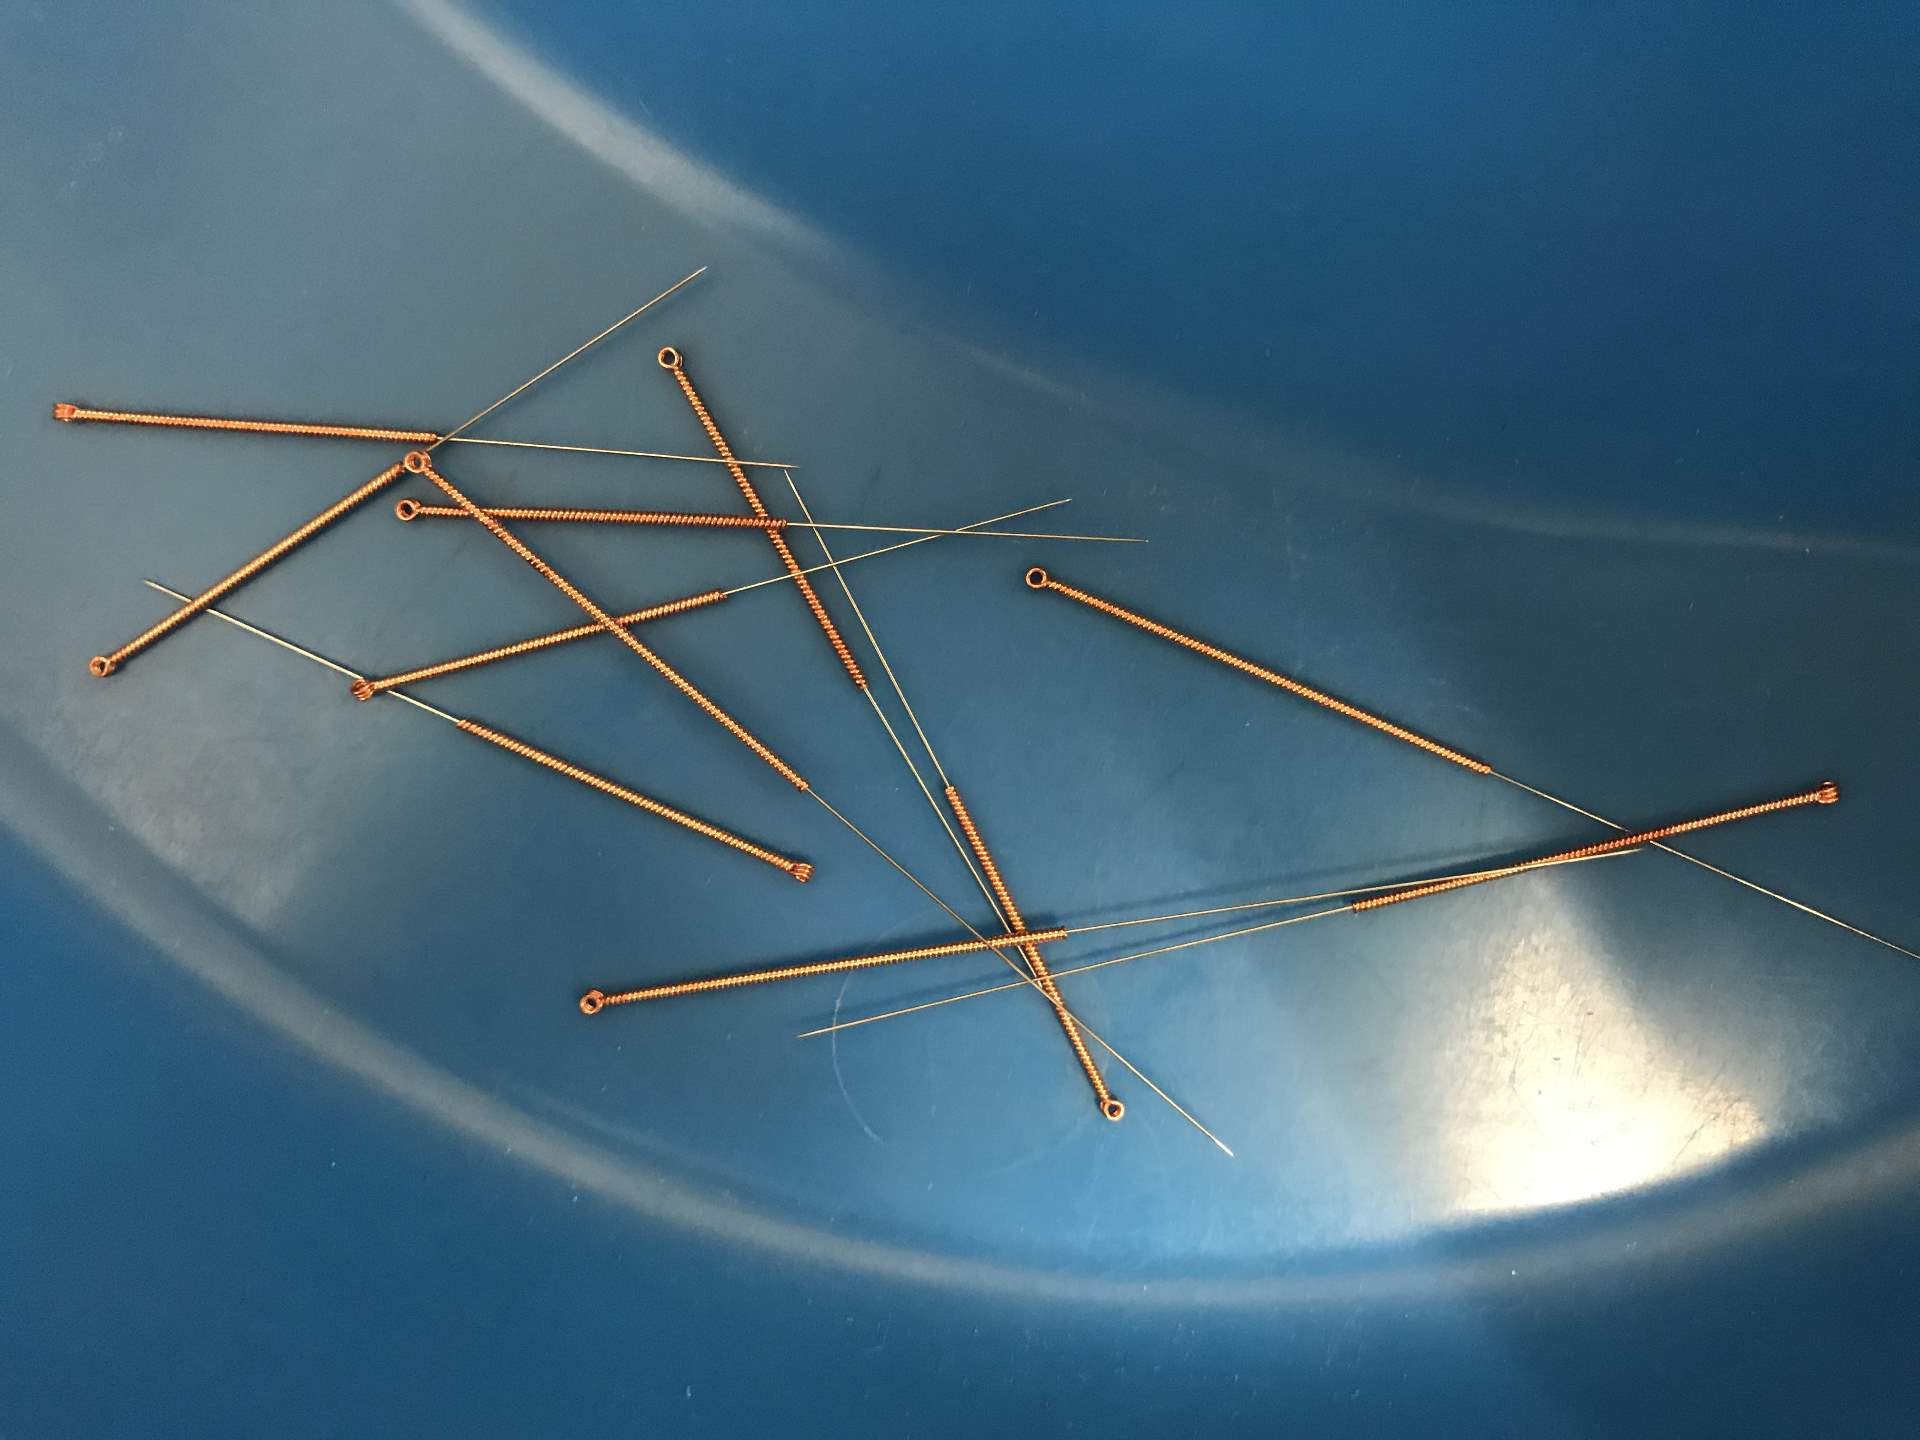needle: (41, 387, 91, 440), (649, 336, 698, 386), (1798, 768, 1847, 817), (570, 979, 617, 1026), (1014, 555, 1061, 599), (1090, 1083, 1132, 1131), (393, 440, 438, 484), (342, 669, 389, 709), (386, 490, 429, 532), (776, 850, 821, 889), (79, 644, 122, 682)
